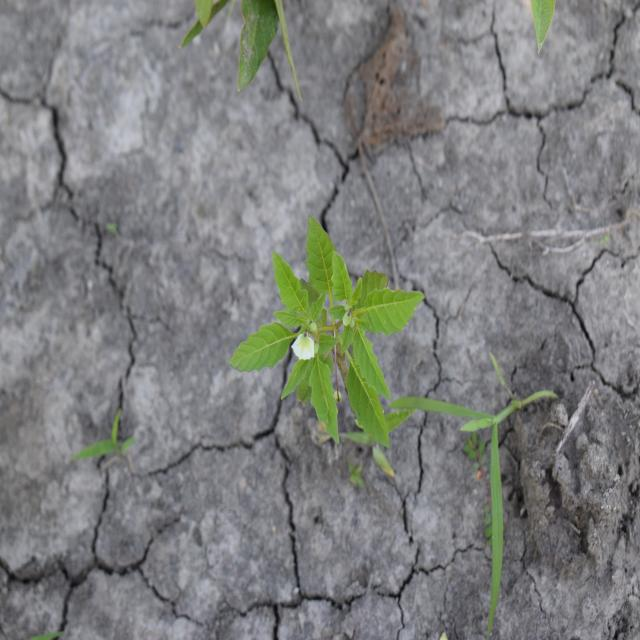CutleafGroundcherry: (227, 212, 426, 450)
